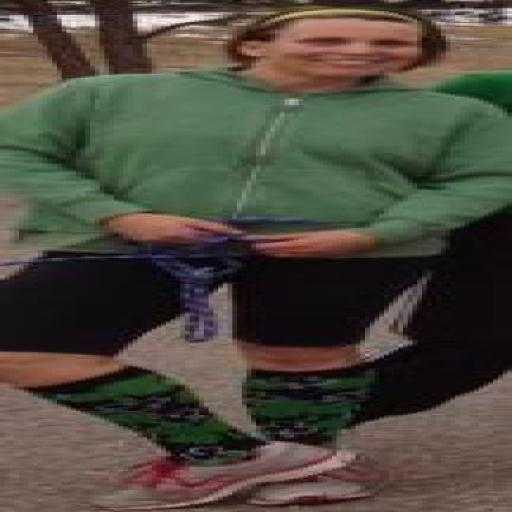person: (0, 7, 511, 509), (351, 209, 511, 425), (356, 209, 511, 421)
